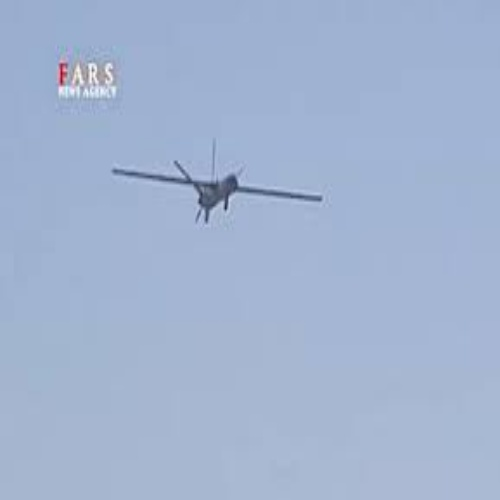uav639: (108, 135, 325, 229)
